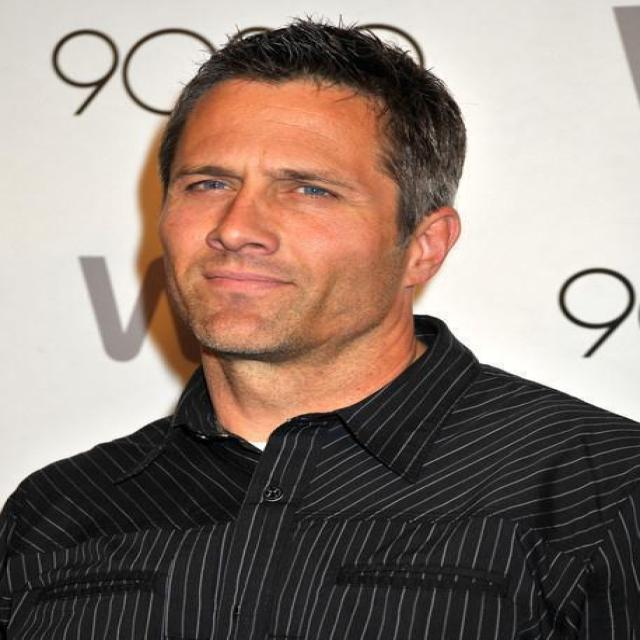0_rostro_limpio: (157, 59, 420, 361)
